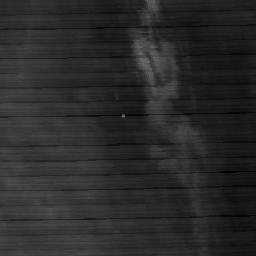Target: (120, 112, 126, 119)
